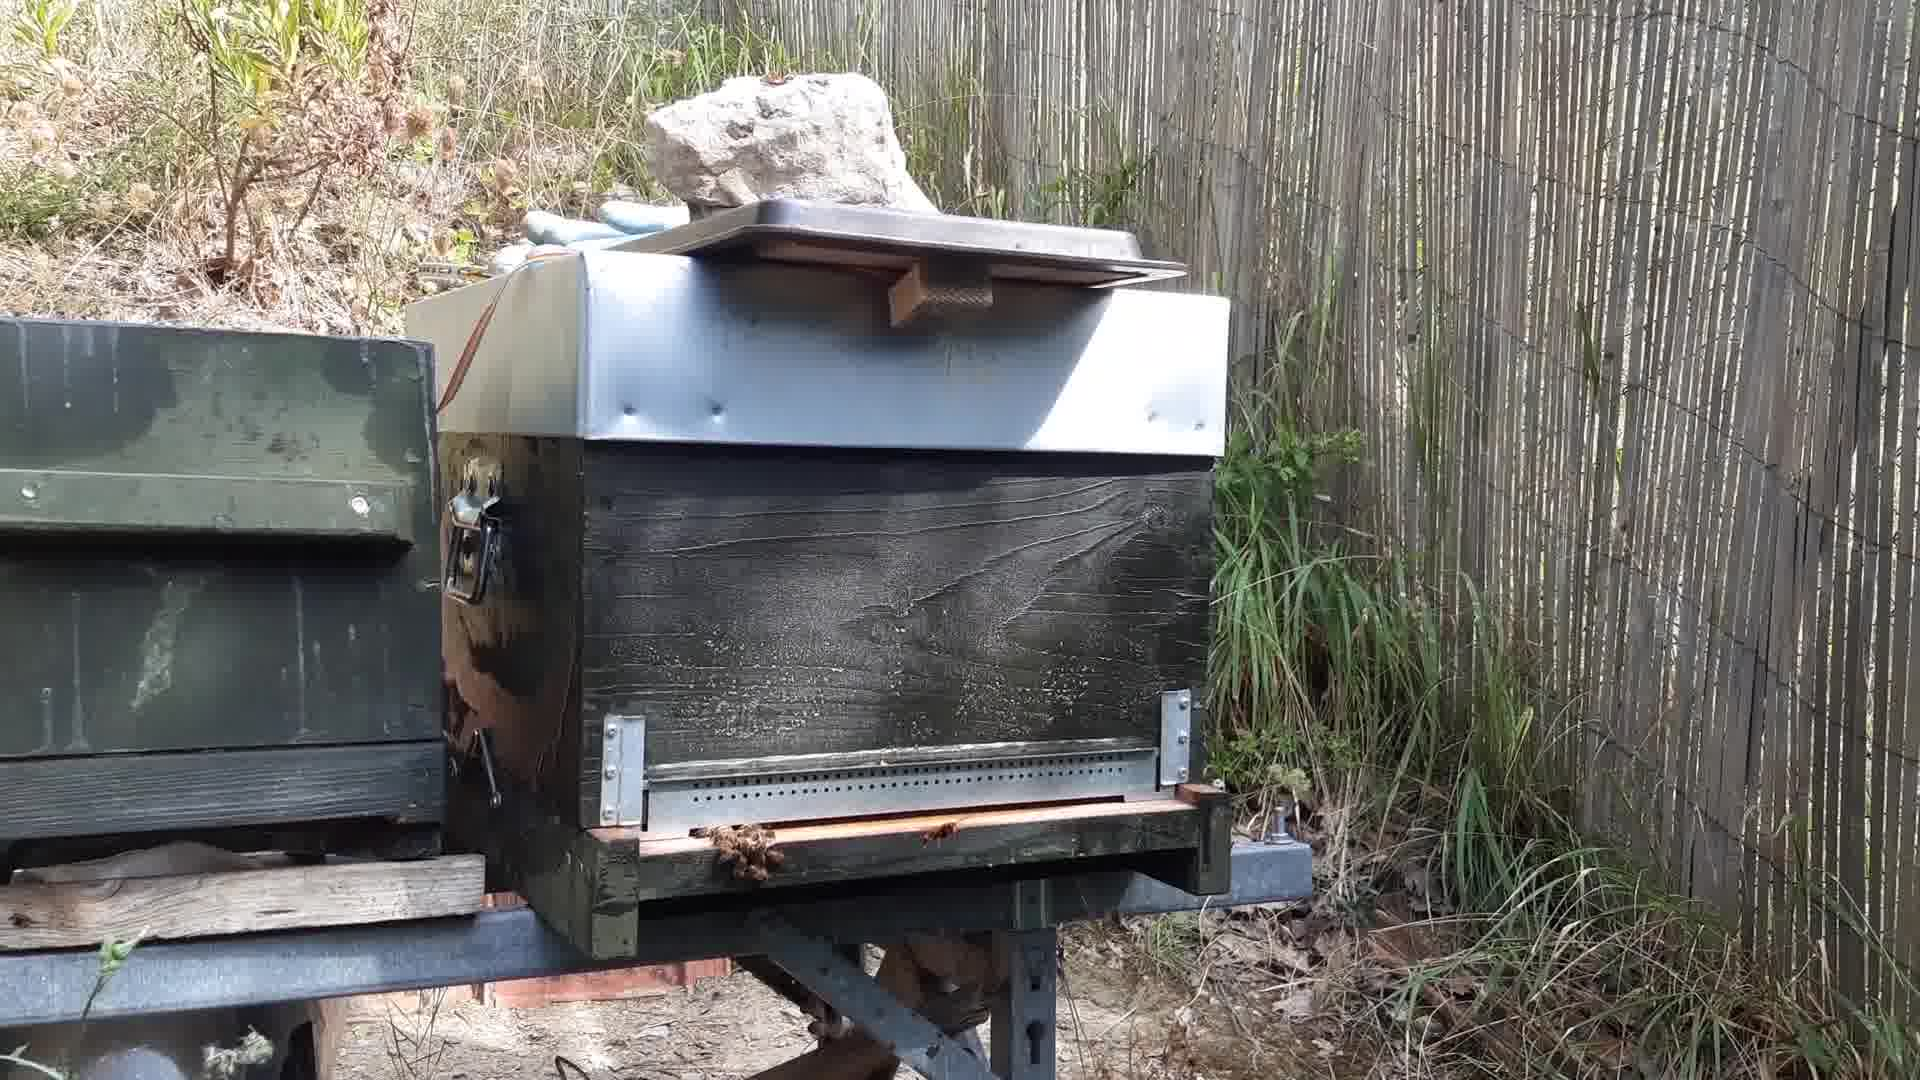bee: (713, 818, 793, 887)
hornet: (920, 820, 963, 853)
